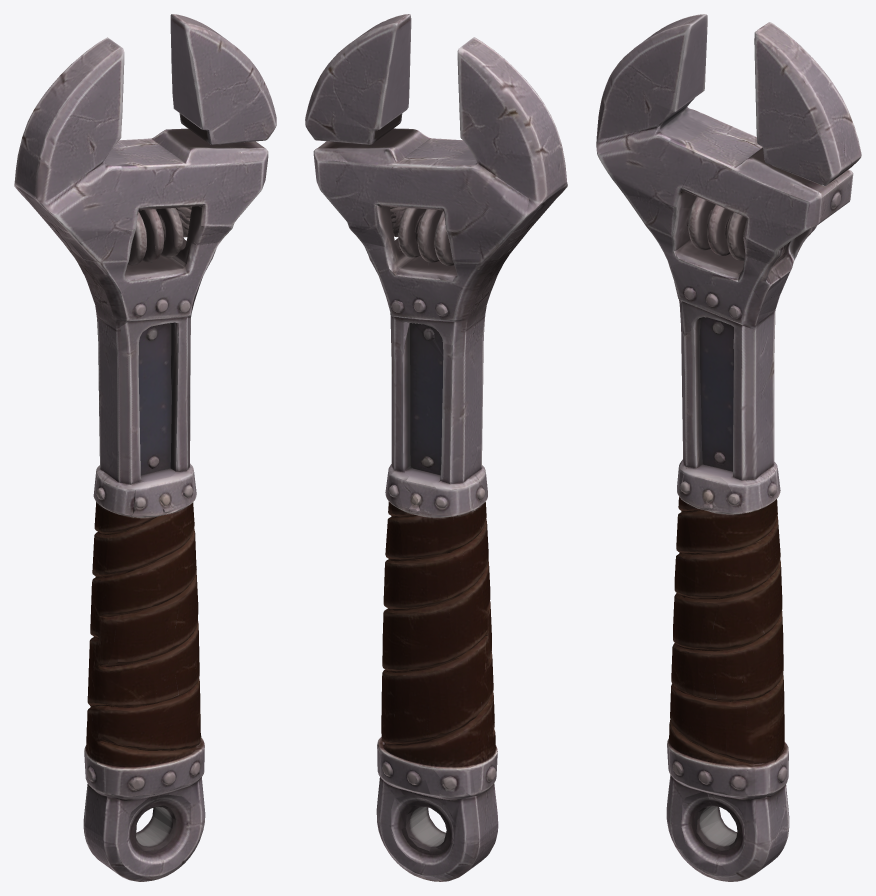
The model's file is wrench.glb.
3 renders of one model, left to right at view 1: azimuth 30°, elevation 25°; view 2: azimuth 150°, elevation 25°; view 3: azimuth 330°, elevation 25°, orthographic.
Visible parts, largest first — view 1: Mesh_0; view 2: Mesh_0; view 3: Mesh_0.
Boxes of the visible parts, left/top/right/bottom form: Mesh_0: left=14, top=14, right=276, bottom=881; Mesh_0: left=305, top=14, right=567, bottom=881; Mesh_0: left=596, top=14, right=861, bottom=881.
Size of the model in its own units: 0.5674 by 1.9 by 0.2069.
Materials: 1 (1 with a texture image).
